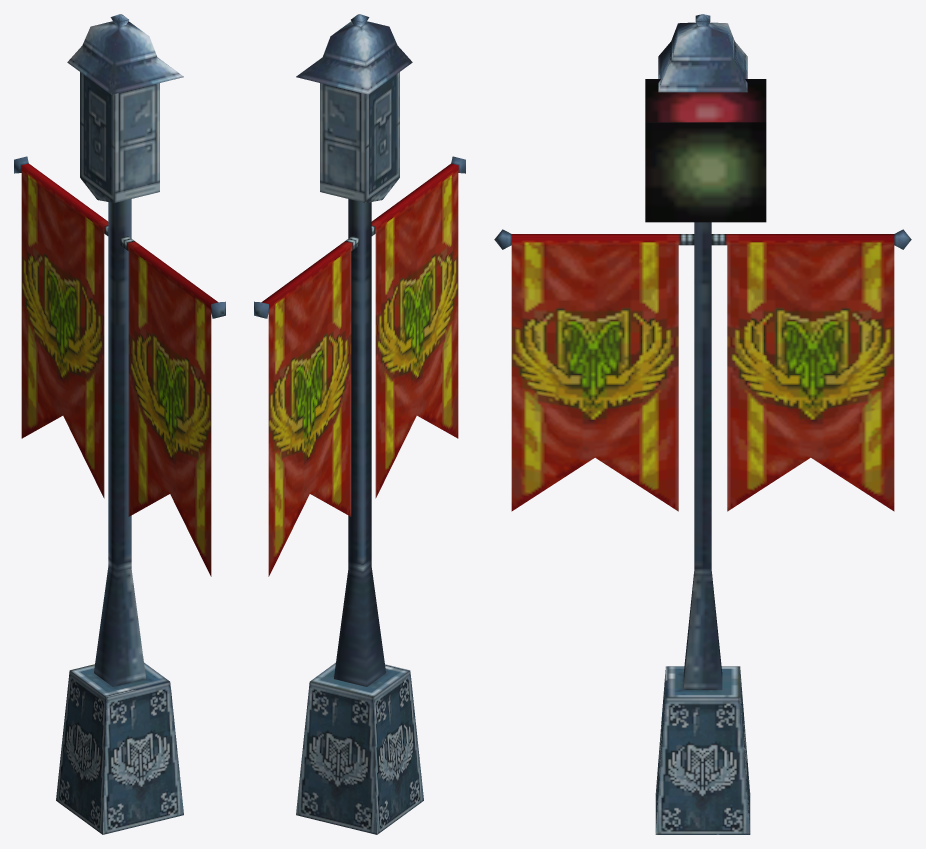
Rendered from nml-bd079.glb.
3 views of the same model, side by side, from view 1: azimuth 30°, elevation 25°; view 2: azimuth 150°, elevation 25°; view 3: azimuth 270°, elevation 25° (orthographic).
Visible parts, largest first — view 1: geom_node_0; view 2: geom_node_0; view 3: geom_node_0, geom_node_1.
Part boxes in pixels (x1,y1,x2,y2): geom_node_0: (14,14,225,834); geom_node_0: (254,14,465,834); geom_node_0: (494,14,911,834); geom_node_1: (645,79,766,222).
Size of the model in its own units: 0.5102 by 4.67 by 2.2.
Materials: 2 (2 with a texture image).
